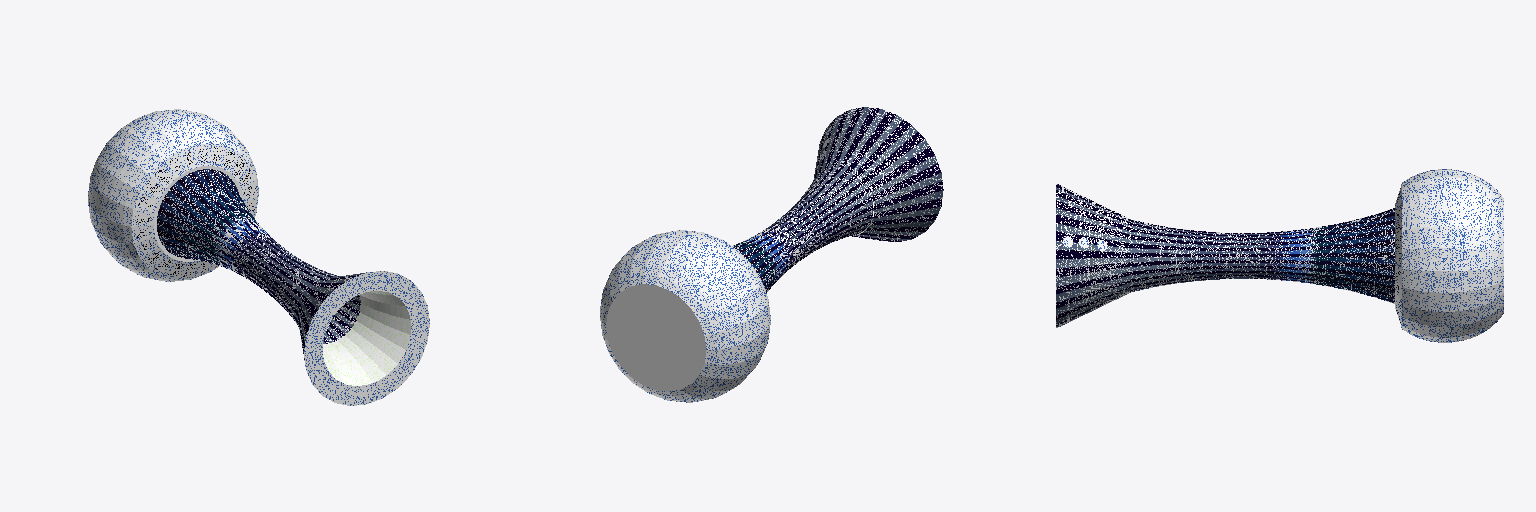
The picture shows the model from 3 angles: view 1: azimuth 30°, elevation 25°; view 2: azimuth 150°, elevation 25°; view 3: azimuth 270°, elevation 25°; orthographic projection.
Visible parts, largest first — view 1: mesh3_mesh3-geometry, mesh1_mesh1-geometry; view 2: mesh1_mesh1-geometry, mesh3_mesh3-geometry; view 3: mesh3_mesh3-geometry, mesh1_mesh1-geometry.
Part boxes in pixels (bbox=[...]): mesh3_mesh3-geometry: bbox=[157, 169, 429, 405]; mesh1_mesh1-geometry: bbox=[88, 109, 258, 281]; mesh1_mesh1-geometry: bbox=[600, 230, 770, 402]; mesh3_mesh3-geometry: bbox=[733, 107, 943, 292]; mesh3_mesh3-geometry: bbox=[1056, 184, 1394, 327]; mesh1_mesh1-geometry: bbox=[1395, 169, 1503, 342].
Size of the model in its own units: 0.0976 by 0.0976 by 0.2506.
Materials: 5 (1 with a texture image).